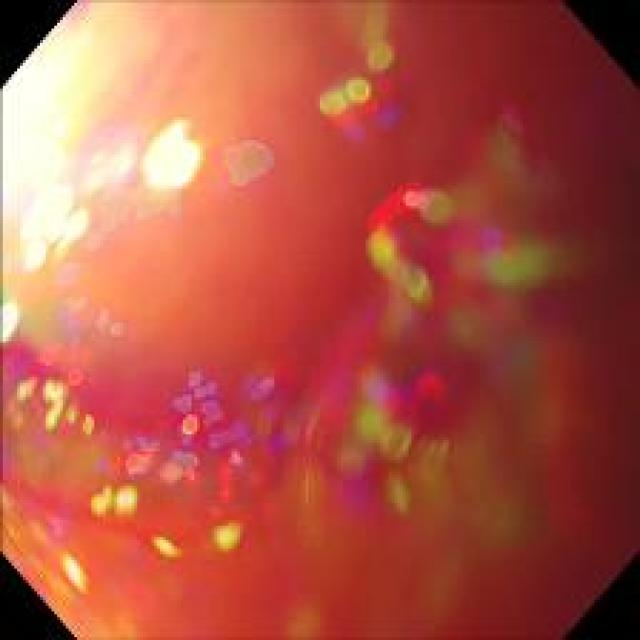color misalignment: (25, 22, 611, 622), (355, 164, 625, 512), (1, 310, 336, 534), (309, 29, 411, 139)
saturation: (0, 4, 162, 200)
specularity: (21, 190, 85, 270), (140, 116, 199, 191), (1, 301, 20, 345)
